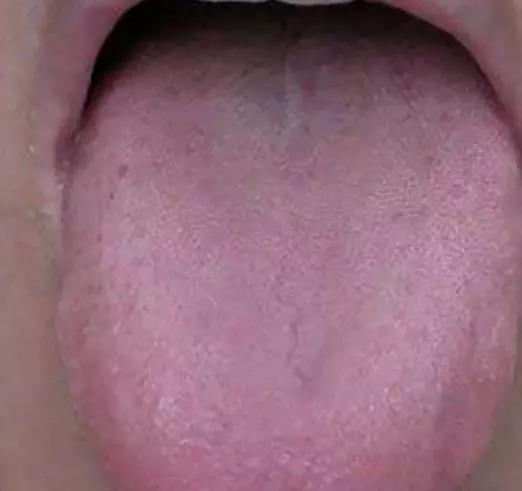baitaishe: (59, 33, 522, 491)
